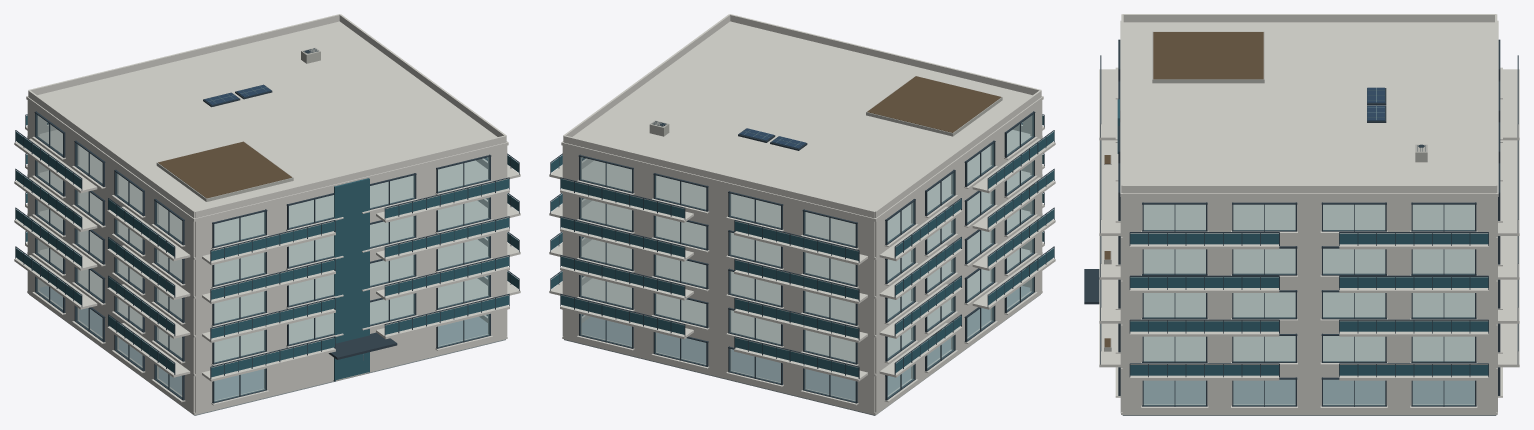
Rendered from Apartment_5.fbx.
The picture shows the model from 3 angles, left to right: view 1: azimuth 30°, elevation 25°; view 2: azimuth 150°, elevation 25°; view 3: azimuth 270°, elevation 25°; orthographic projection. The views are drawn at different scales.
Visible parts, largest first — view 1: Apartment_5.016; view 2: Apartment_5.016; view 3: Apartment_5.016.
Part boxes in pixels (bbox=[...]): Apartment_5.016: bbox=[14, 14, 520, 415]; Apartment_5.016: bbox=[549, 14, 1055, 415]; Apartment_5.016: bbox=[1084, 14, 1519, 415].
Bounding box in the file's own units: 29 × 16.57 × 27.95.
